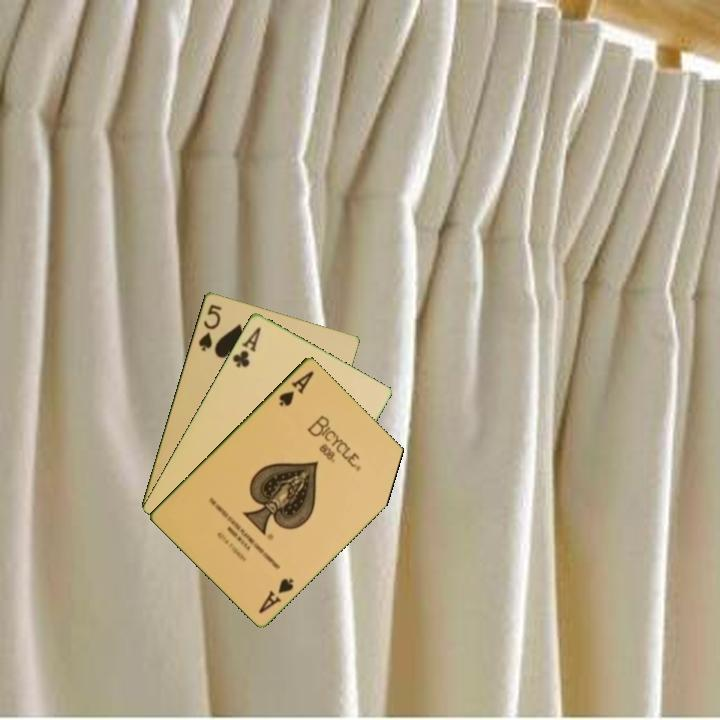5s: (194, 300, 224, 354)
Ac: (229, 323, 264, 370)
As: (275, 367, 317, 409), (255, 574, 296, 616)
